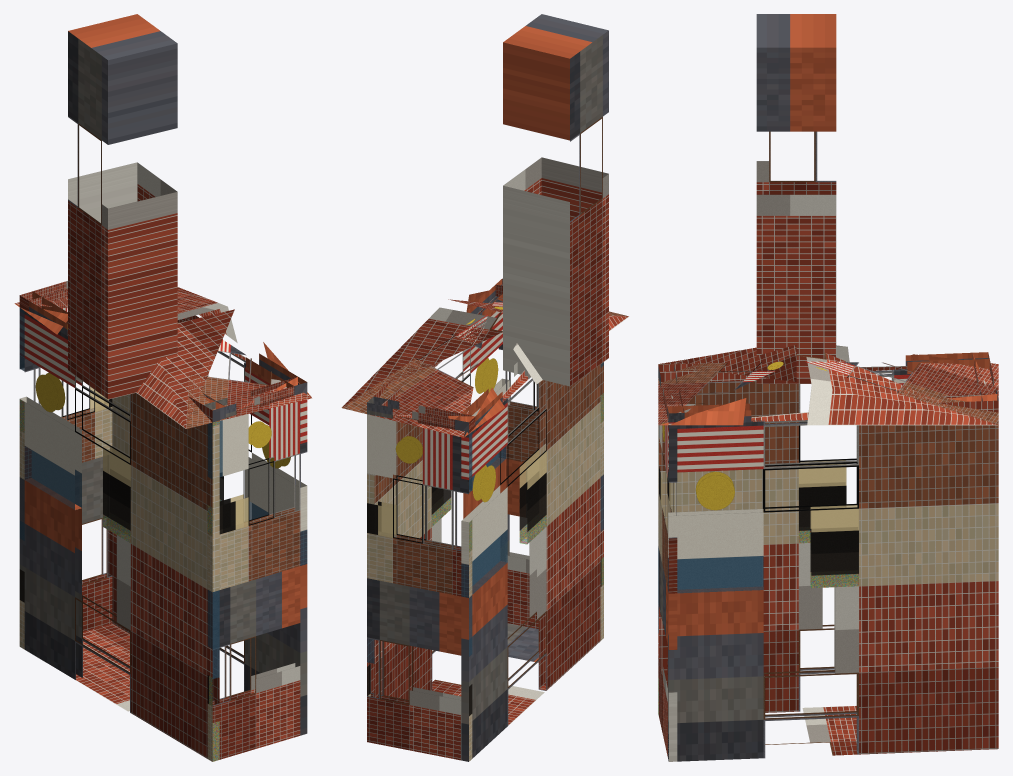
3 views of the same model, side by side, from view 1: azimuth 30°, elevation 25°; view 2: azimuth 150°, elevation 25°; view 3: azimuth 270°, elevation 25° (orthographic). The views are drawn at different scales.
Visible parts, largest first — view 1: 247239687__wall_2_xb, 247239687__chimney_0_xb, 247239687__wall_3_xb, 247239687__wall_0_xb, 247239687__wall_1_xb, 247239687_roof_left_xb, 247239687__wall_2_xf, 247239687__base, 247239687_roof_front_xb, 247239687__wall_3_xf, 247239687_roof_right_xb, 247239687__cornice_0 (+5 smaller); view 2: 247239687__wall_2_xb, 247239687__chimney_0_xb, 247239687__wall_1_xb, 247239687__wall_0_xb, 247239687__wall_3_xb, 247239687_roof_back_xb, 247239687_roof_right_xb, 247239687__wall_2_xf, 247239687__base, 247239687__cornice_1, 247239687__wall_1_xf, 247239687_roof_left_xb (+3 smaller); view 3: 247239687__wall_0_xb, 247239687__chimney_0_xb, 247239687__wall_2_xb, 247239687_roof_right_xb, 247239687__wall_0_xf, 247239687__wall_3_xb, 247239687_roof_back_xb, 247239687_roof_left_xb, 247239687_roof_front_xb, 247239687__wall_2_xf, 247239687__base, 247239687__cornice_2 (+1 smaller).
Part boxes in pixels (bbox=[...]): 247239687__wall_2_xb: bbox=[19, 308, 219, 761]; 247239687__chimney_0_xb: bbox=[68, 14, 177, 399]; 247239687__wall_3_xb: bbox=[207, 401, 307, 761]; 247239687__wall_0_xb: bbox=[108, 351, 307, 735]; 247239687__wall_1_xb: bbox=[19, 307, 112, 649]; 247239687_roof_left_xb: bbox=[15, 303, 234, 428]; 247239687__wall_2_xf: bbox=[25, 421, 219, 760]; 247239687__base: bbox=[76, 623, 129, 711]; 247239687_roof_front_xb: bbox=[186, 339, 312, 428]; 247239687__wall_3_xf: bbox=[208, 420, 248, 705]; 247239687_roof_right_xb: bbox=[177, 287, 311, 397]; 247239687__cornice_0: bbox=[177, 315, 307, 395]; 247239687__wall_2_xb: bbox=[461, 362, 603, 761]; 247239687__chimney_0_xb: bbox=[503, 14, 608, 386]; 247239687__wall_1_xb: bbox=[367, 414, 472, 761]; 247239687__wall_0_xb: bbox=[367, 296, 509, 699]; 247239687__wall_3_xb: bbox=[498, 344, 603, 640]; 247239687_roof_back_xb: bbox=[342, 314, 487, 437]; 247239687_roof_right_xb: bbox=[342, 289, 502, 407]; 247239687__wall_2_xf: bbox=[461, 450, 546, 597]; 247239687__base: bbox=[432, 623, 544, 725]; 247239687__cornice_1: bbox=[367, 396, 475, 433]; 247239687__wall_1_xf: bbox=[367, 432, 471, 715]; 247239687_roof_left_xb: bbox=[448, 299, 629, 437]; 247239687__wall_0_xb: bbox=[668, 420, 998, 761]; 247239687__chimney_0_xb: bbox=[756, 14, 836, 383]; 247239687__wall_2_xb: bbox=[658, 369, 910, 715]; 247239687_roof_right_xb: bbox=[659, 352, 997, 425]; 247239687__wall_0_xf: bbox=[668, 485, 858, 592]; 247239687__wall_3_xb: bbox=[658, 421, 677, 761]; 247239687_roof_back_xb: bbox=[805, 361, 998, 425]; 247239687_roof_left_xb: bbox=[660, 344, 995, 381]; 247239687_roof_front_xb: bbox=[658, 361, 783, 425]; 247239687__wall_2_xf: bbox=[658, 467, 845, 632]; 247239687__base: bbox=[765, 705, 857, 755]; 247239687__cornice_2: bbox=[658, 352, 989, 382].
Size of the model in its own units: 0.3345 by 1.4 by 0.642.
1 material, 1 textured.
